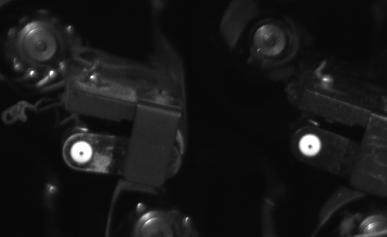fiber: (63, 135, 102, 173), (289, 129, 328, 162)
